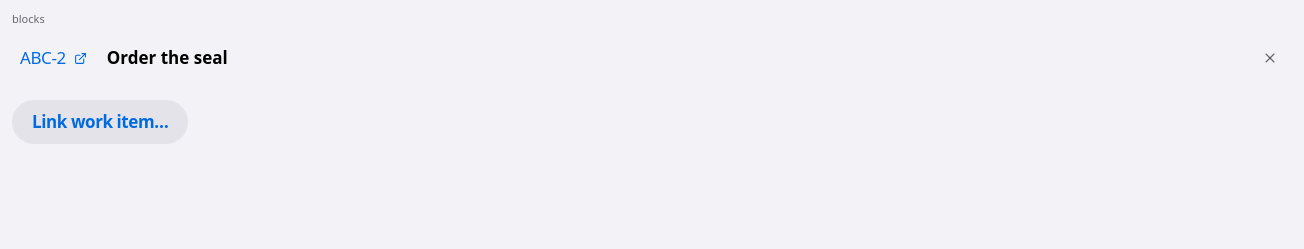
Test: the link form › reports a failed relations read
The image size is (1304, 249).
Click the button "Link work item…" at [100, 122], box left=12, top=100, right=188, bottom=144
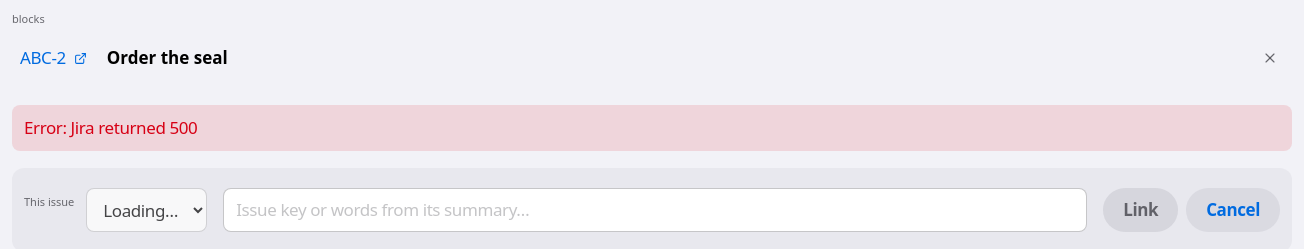
Result: the text "Error: Jira returned 500" is shown at left=12, top=105, right=1292, bottom=151
